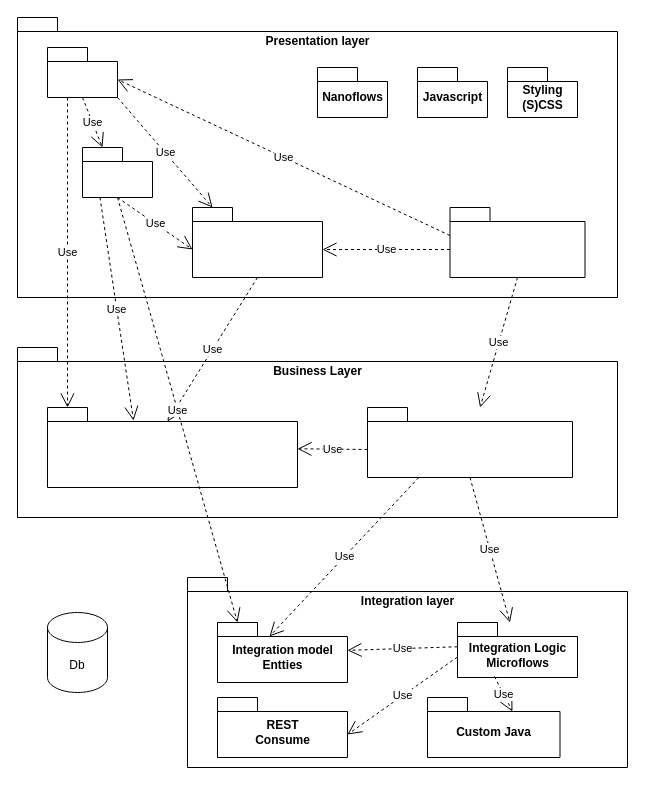
The diagram is 645 pixels wide and 785 high, and some of its shapes have lost their labels. The shapes that lost their labels are listed below. From the top down, each one's centre as x and y in pixels, then its label:
the point at 82,72: Pages
the point at 117,172: Snippets
the point at 257,242: Presentation Model Entities
the point at 517,242: Presentation Logic Microflows
the point at 172,447: Business domain model entties
the point at 469,442: Business Logic Microflows
